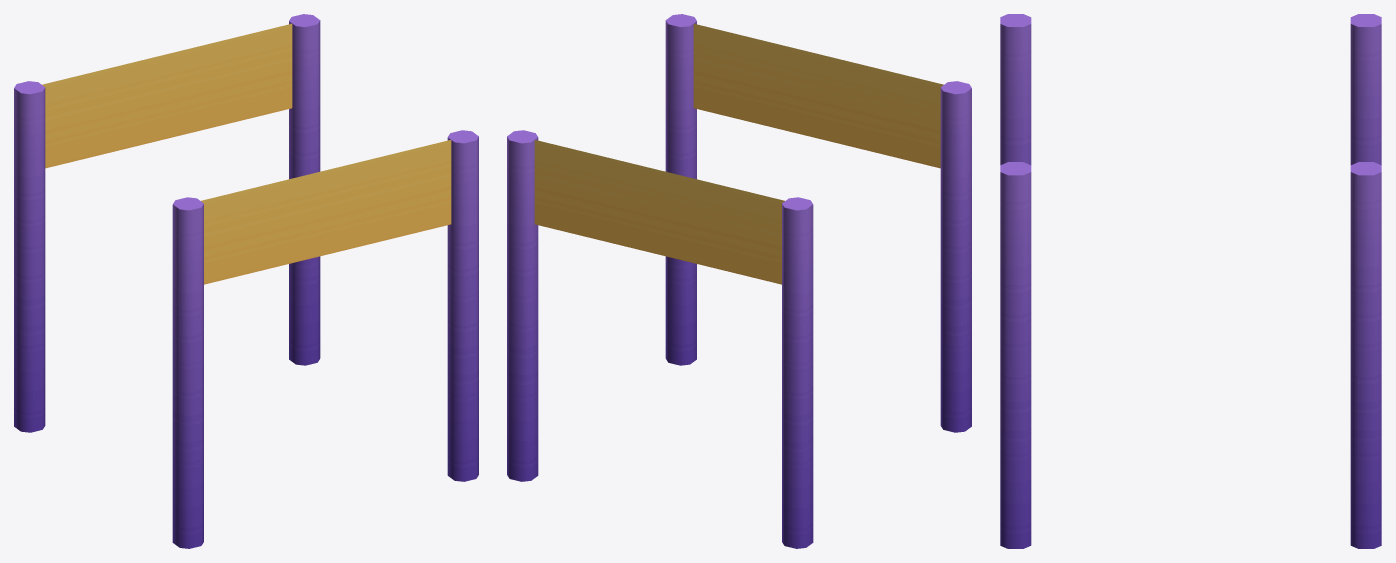
Rendered from banner-double-high.glb.
3 views of the same model, side by side, from view 1: azimuth 30°, elevation 25°; view 2: azimuth 150°, elevation 25°; view 3: azimuth 270°, elevation 25° (orthographic). The views are drawn at different scales.
Visible parts, largest first — view 1: banner-double-high; view 2: banner-double-high; view 3: banner-double-high.
Boxes of the visible parts, box(x1,y1,x2,y2) form: banner-double-high: box(14, 14, 478, 548); banner-double-high: box(507, 14, 971, 548); banner-double-high: box(1000, 14, 1381, 548).
Size of the model in its own units: 0.925 by 1 by 0.925.
1 material, 1 textured.
